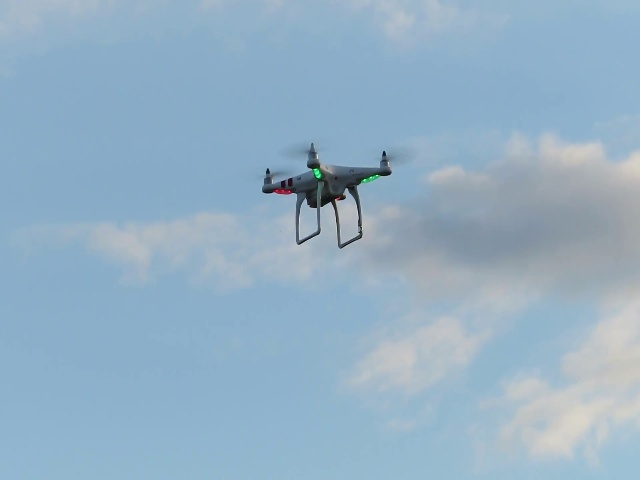drone: (254, 137, 404, 252)
